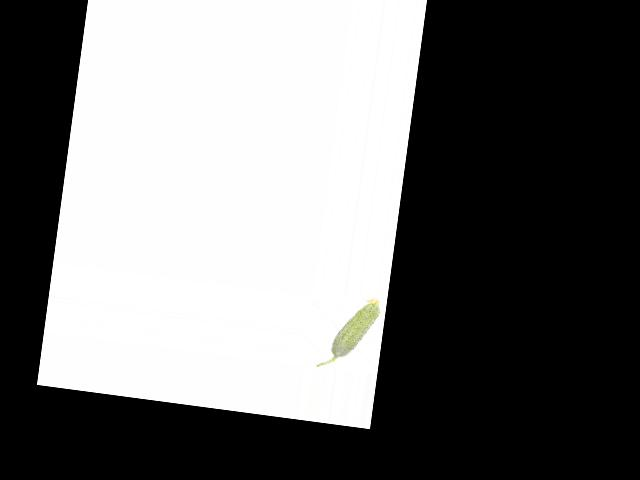cucumber: (316, 290, 382, 373)
